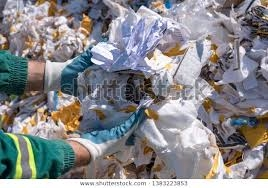paper: (90, 3, 206, 104), (134, 96, 221, 178), (213, 29, 263, 102)
